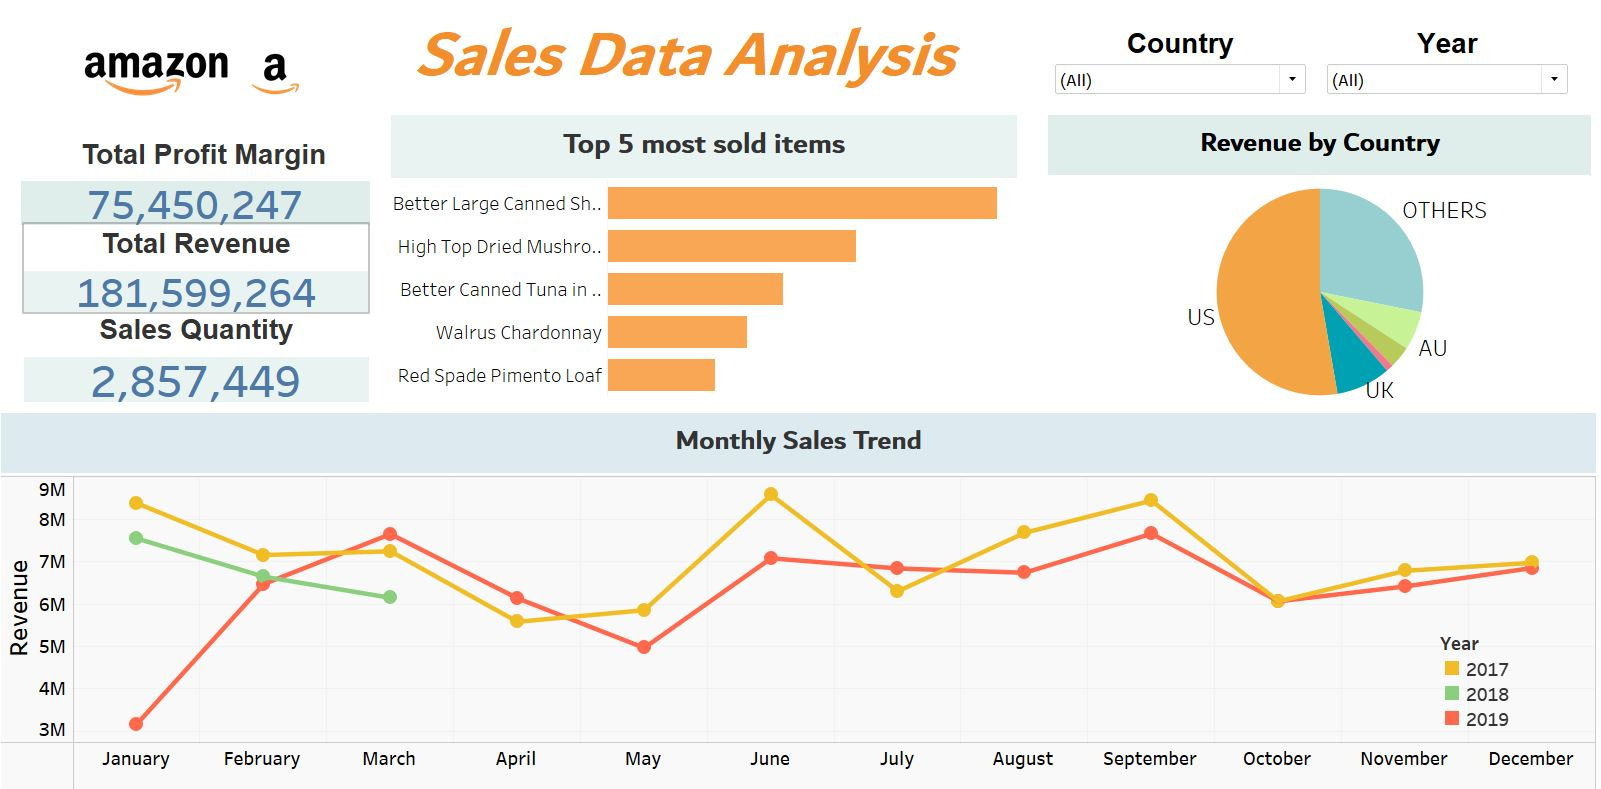

The page's visual inventory and layout, read from the dashboard file:
{"tool":"tableau","page":{"name":"Sales_analysis","canvas":[1604,818],"ordinal":0},"visuals":[{"type":"image","param":"Image/amazonlogo.jpeg","box":[11,6,363,125]},{"type":"text","box":[291.2,26.6,796.1,71.4]},{"type":"filter","title":"Revenue by country","param":"[federated.19gjnl417jnm011cabjo60blfq4e].[none:Country:nk]","box":[1053.3,33,257.2,91.6]},{"type":"filter","title":"Revenue by country","param":"[federated.19gjnl417jnm011cabjo60blfq4e].[yr:Invoice Date:ok]","box":[1324.5,33,246.6,92.7]},{"type":"worksheet","title":"Top N items sold","mark":"Automatic","rows":["Item"],"cols":["Sales Quantity"],"box":[392.2,120.4,625.9,314.2]},{"type":"worksheet","title":"Revenue by country","mark":"Pie","box":[1048.6,120.4,543.7,290.8]},{"type":"worksheet","title":"total_profit_margin","mark":"Automatic","box":[22.3,139.5,349.9,90.5]},{"type":"worksheet","title":"Total_revenue","mark":"Automatic","box":[24.7,229,344,88.4]},{"type":"worksheet","title":"sales_quantity","mark":"Automatic","box":[24.7,315.3,345.2,91.6]},{"type":"worksheet","title":"yearly_mothwise_sales","mark":"Line","rows":["Sales Amount","Sales Amount"],"cols":["Invoice Date"],"box":[2.3,417.5,1594.6,396.2]},{"type":"legend","title":"yearly_mothwise_sales","param":"[federated.19gjnl417jnm011cabjo60blfq4e].[yr:Invoice Date:ok]","box":[1440.8,634.8,136.2,104.4]}]}

Visuals, with their boxes on the page's 1604x818 design canvas (x1, y1, x2, y2). These are canvas units, not pixel positions in the 1601x789 screenshot, which may show the page scaled, cropped or inside an application window:
image: Rect(11, 6, 374, 131)
text: Rect(291, 27, 1087, 98)
"Revenue by country" filter: Rect(1053, 33, 1310, 125)
"Revenue by country" filter: Rect(1324, 33, 1571, 126)
"Top N items sold" worksheet: Rect(392, 120, 1018, 435)
"Revenue by country" worksheet (Pie marks): Rect(1049, 120, 1592, 411)
"total_profit_margin" worksheet: Rect(22, 140, 372, 230)
"Total_revenue" worksheet: Rect(25, 229, 369, 317)
"sales_quantity" worksheet: Rect(25, 315, 370, 407)
"yearly_mothwise_sales" worksheet (Line marks): Rect(2, 418, 1597, 814)
"yearly_mothwise_sales" legend: Rect(1441, 635, 1577, 739)
